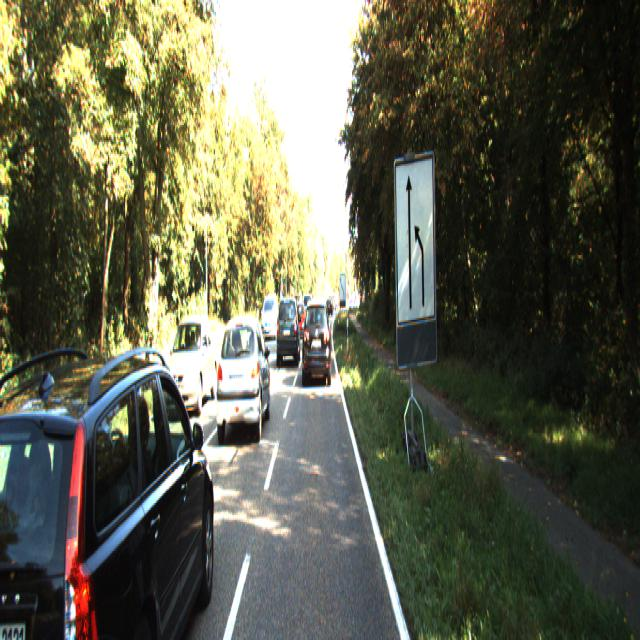Car: (0, 327, 218, 638), (215, 309, 270, 442), (158, 316, 219, 418), (301, 295, 331, 384), (276, 296, 300, 366), (259, 290, 278, 335)
